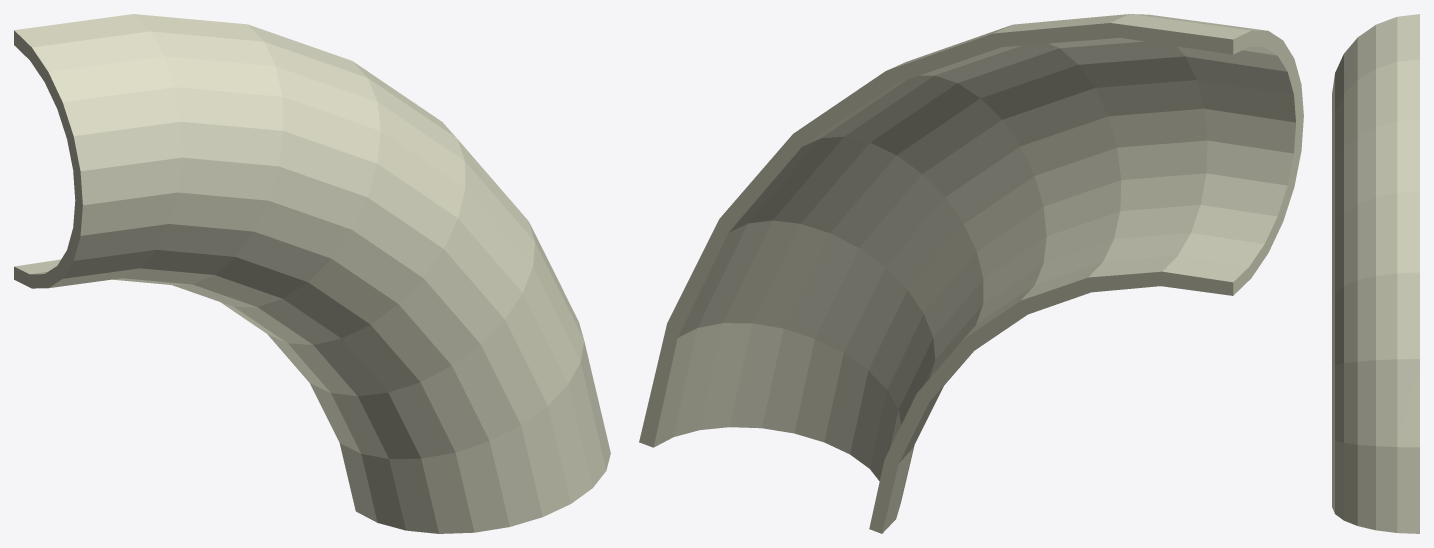
File: section_264.obj
The picture shows the model from 3 angles, left to right: view 1: azimuth 30°, elevation 25°; view 2: azimuth 150°, elevation 25°; view 3: azimuth 270°, elevation 25°; orthographic projection. The views are drawn at different scales.
Bounding box in the file's own units: 43.65 × 40.72 × 9.
